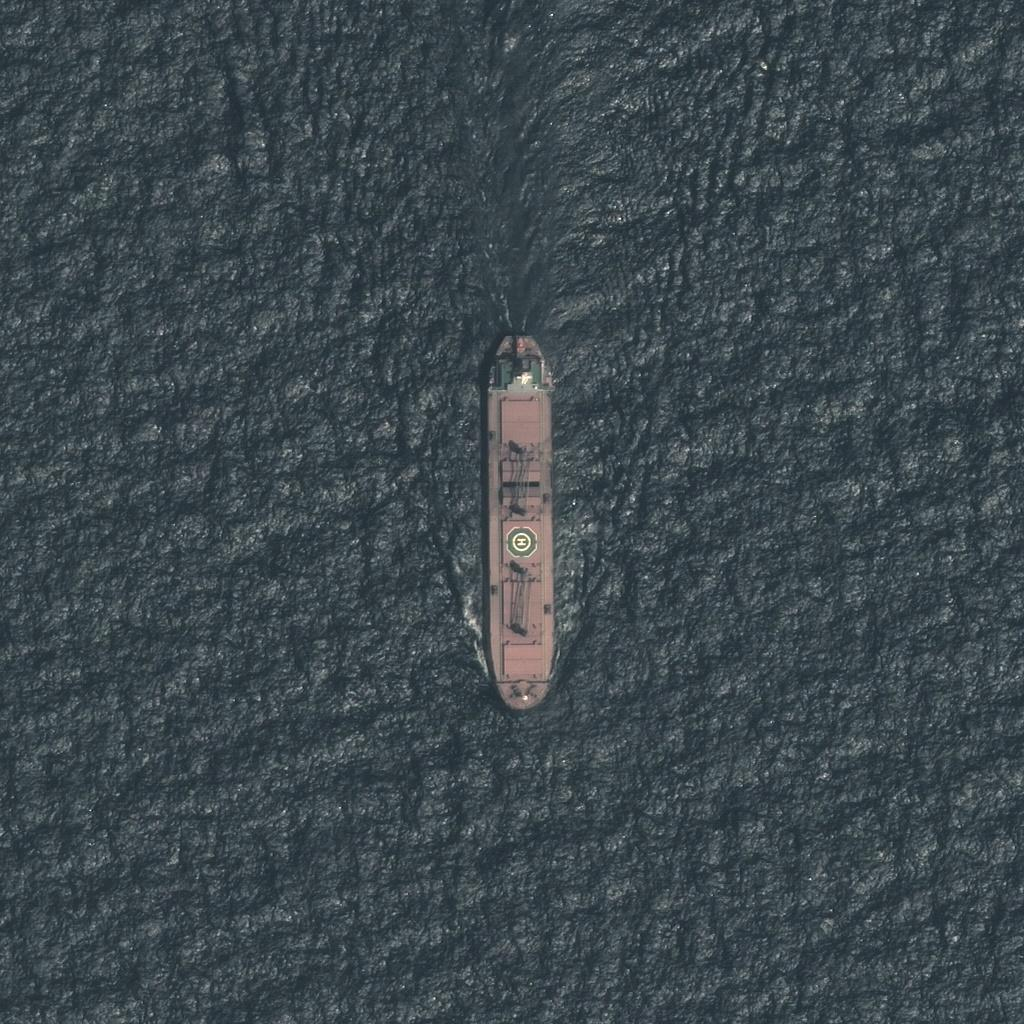ship: (480, 323, 567, 719)
